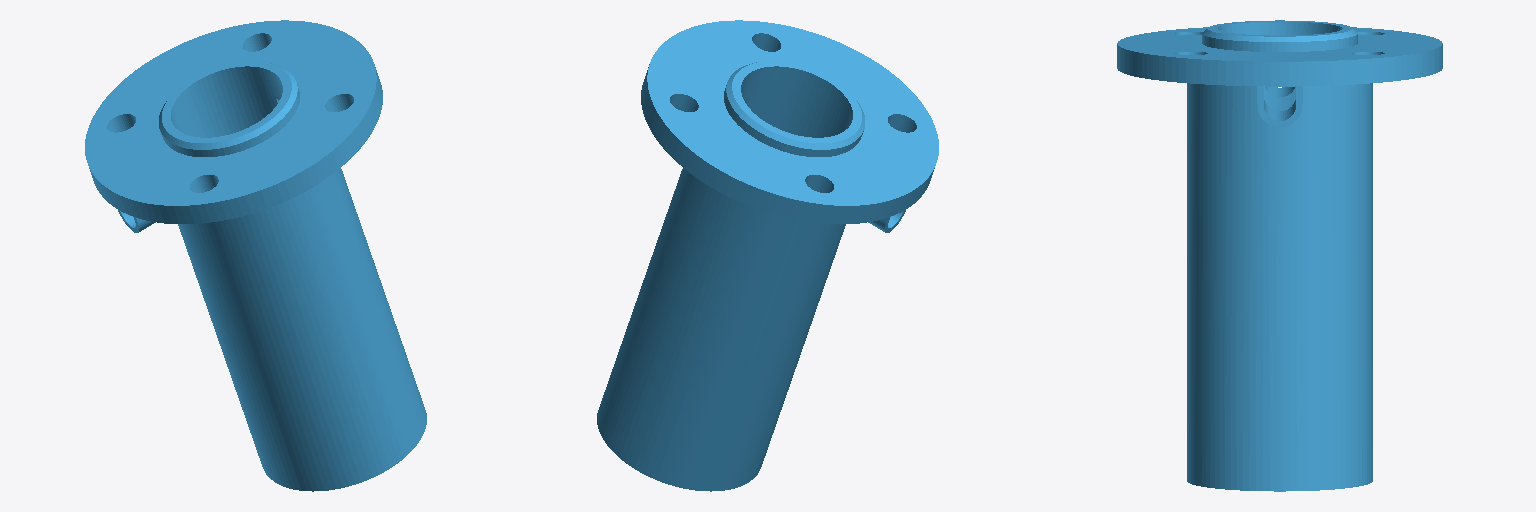
URDF robot description (panda):
<?xml version="1.0" ?>
<!-- =================================================================================== -->
<!-- |    This document was autogenerated by xacro from /opt/ros/kinetic/share/moveit_resources/panda_description/urdf/panda.urdf | -->
<!-- |    EDITING THIS FILE BY HAND IS NOT RECOMMENDED                                 | -->
<!-- =================================================================================== -->
<robot name="panda" xmlns:xacro="http://www.ros.org/wiki/xacro">
    <link name="panda_link0">
        <visual>
            <geometry>
                <mesh filename="package://franka_description/meshes/visual/link0.dae" />
            </geometry>
        </visual>
        <collision>
            <geometry>
                <mesh filename="package://franka_description/meshes/collision/link0.stl" />
            </geometry>
        </collision>
    </link>
    <link name="panda_link1">
        <visual>
            <geometry>
                <mesh filename="package://franka_description/meshes/visual/link1.dae" />
            </geometry>
        </visual>
        <collision>
            <geometry>
                <mesh filename="package://franka_description/meshes/collision/link1.stl" />
            </geometry>
        </collision>
    </link>
    <joint name="panda_joint1" type="revolute">
        <safety_controller k_position="100.0" k_velocity="40.0" soft_lower_limit="-2.8073" soft_upper_limit="2.8073" />
        <origin rpy="0 0 0" xyz="0 0 0.333" />
        <parent link="panda_link0" />
        <child link="panda_link1" />
        <axis xyz="0 0 1" />
        <limit effort="87" lower="-2.8073" upper="2.8073" velocity="2.3925" />
    </joint>
    <link name="panda_link2">
        <visual>
            <geometry>
                <mesh filename="package://franka_description/meshes/visual/link2.dae" />
            </geometry>
        </visual>
        <collision>
            <geometry>
                <mesh filename="package://franka_description/meshes/collision/link2.stl" />
            </geometry>
        </collision>
    </link>
    <joint name="panda_joint2" type="revolute">
        <safety_controller k_position="100.0" k_velocity="40.0" soft_lower_limit="-1.7028" soft_upper_limit="1.7028" />
        <origin rpy="-1.57079632679 0 0" xyz="0 0 0" />
        <parent link="panda_link1" />
        <child link="panda_link2" />
        <axis xyz="0 0 1" />
        <limit effort="87" lower="-1.7028" upper="1.7028" velocity="2.3925" />
    </joint>
    <link name="panda_link3">
        <visual>
            <geometry>
                <mesh filename="package://franka_description/meshes/visual/link3.dae" />
            </geometry>
        </visual>
        <collision>
            <geometry>
                <mesh filename="package://franka_description/meshes/collision/link3.stl" />
            </geometry>
        </collision>
    </link>
    <joint name="panda_joint3" type="revolute">
        <safety_controller k_position="100.0" k_velocity="40.0" soft_lower_limit="-2.8073" soft_upper_limit="2.8073" />
        <origin rpy="1.57079632679 0 0" xyz="0 -0.316 0" />
        <parent link="panda_link2" />
        <child link="panda_link3" />
        <axis xyz="0 0 1" />
        <limit effort="87" lower="-2.8073" upper="2.8073" velocity="2.3925" />
    </joint>
    <link name="panda_link4">
        <visual>
            <geometry>
                <mesh filename="package://franka_description/meshes/visual/link4.dae" />
            </geometry>
        </visual>
        <collision>
            <geometry>
                <mesh filename="package://franka_description/meshes/collision/link4.stl" />
            </geometry>
        </collision>
    </link>
    <joint name="panda_joint4" type="revolute">
        <safety_controller k_position="100.0" k_velocity="40.0" soft_lower_limit="-3.0018" soft_upper_limit="-0.1298" />
        <origin rpy="1.57079632679 0 0" xyz="0.0825 0 0" />
        <parent link="panda_link3" />
        <child link="panda_link4" />
        <axis xyz="0 0 1" />
        <limit effort="87" lower="-3.0018" upper="-0.1298" velocity="2.3925" />
    </joint>
    <link name="panda_link5">
        <visual>
            <geometry>
                <mesh filename="package://franka_description/meshes/visual/link5.dae" />
            </geometry>
        </visual>
        <collision>
            <geometry>
                <mesh filename="package://franka_description/meshes/collision/link5.stl" />
            </geometry>
        </collision>
    </link>
    <joint name="panda_joint5" type="revolute">
        <safety_controller k_position="100.0" k_velocity="40.0" soft_lower_limit="-2.8073" soft_upper_limit="2.8073" />
        <origin rpy="-1.57079632679 0 0" xyz="-0.0825 0.384 0" />
        <parent link="panda_link4" />
        <child link="panda_link5" />
        <axis xyz="0 0 1" />
        <limit effort="12" lower="-2.8073" upper="2.8073" velocity="2.8710" />
    </joint>
    <link name="panda_link6">
        <visual>
            <geometry>
                <mesh filename="package://franka_description/meshes/visual/link6.dae" />
            </geometry>
        </visual>
        <collision>
            <geometry>
                <mesh filename="package://franka_description/meshes/collision/link6.stl" />
            </geometry>
        </collision>
    </link>
    <joint name="panda_joint6" type="revolute">
        <safety_controller k_position="100.0" k_velocity="40.0" soft_lower_limit="0.0775" soft_upper_limit="3.7025" />
        <origin rpy="1.57079632679 0 0" xyz="0 0 0" />
        <parent link="panda_link5" />
        <child link="panda_link6" />
        <axis xyz="0 0 1" />
        <limit effort="12" lower="0.0775" upper="3.7025" velocity="2.8710" />
    </joint>
    <link name="panda_link7">
        <visual>
            <geometry>
                <mesh filename="package://franka_description/meshes/visual/link7.dae" />
            </geometry>
        </visual>
        <collision>
            <geometry>
                <mesh filename="package://franka_description/meshes/collision/link7.stl" />
            </geometry>
        </collision>
    </link>
    <joint name="panda_joint7" type="revolute">
        <safety_controller k_position="100.0" k_velocity="40.0" soft_lower_limit="-2.8073" soft_upper_limit="2.8073" />
        <origin rpy="1.57079632679 0 0" xyz="0.088 0 0" />
        <parent link="panda_link6" />
        <child link="panda_link7" />
        <axis xyz="0 0 1" />
        <limit effort="12" lower="-2.8073" upper="2.8073" velocity="2.8710" />
    </joint>
    <link name="panda_link8" />
    <joint name="panda_joint8" type="fixed">
        <origin rpy="0 0 0" xyz="0 0 0.107" />
        <parent link="panda_link7" />
        <child link="panda_link8" />
        <axis xyz="0 0 0" />
    </joint>
    <joint name="panda_vacuum_joint" type="fixed">
        <parent link="panda_link8" />
        <child link="panda_vacuum" />
        <origin rpy="0 0 0.785398163397" xyz="0 0 0" />
    </joint>
    <link name="panda_vacuum">
        <visual>
            <geometry>
                <mesh filename="package://franka_description/meshes/visual/vacuum_v2.dae" />
            </geometry>
        </visual>
        <collision>
            <geometry>
                <mesh filename="package://franka_description/meshes/collision/vacuum_v2.stl" />
            </geometry>
        </collision>
    </link>
    <!-- vacuum_surface frame -->
    <link name="panda_vacuum_surface"/>
    <joint name="panda_vacuum_surface_joint" type="fixed">
        <origin rpy="0 0 0" xyz="0 0 0.091"/>
        <parent link="panda_vacuum"/>
        <child link="panda_vacuum_surface"/>
        <axis xyz="0 0 1"/>
    </joint>
      <!-- grasping frame -->
    <link name="tcp"/>
    <joint name="tcp_joint" type="fixed">
        <origin rpy="0 0 -1.57079632679" xyz="0 0 0.10"/>
        <parent link="panda_vacuum_surface"/>
        <child link="tcp"/>
        <axis xyz="0 0 1"/>
    </joint>

</robot>

--- Facts derived from the render (not from the file) ---
Views: 3 orthographic renders of the robot side by side, from view 1: azimuth 30°, elevation 25°; view 2: azimuth 150°, elevation 25°; view 3: azimuth 270°, elevation 25°.
Model panda with 12 links and 11 joints (7 revolute, 4 fixed), rooted at panda_link0, posed joints at zero except 2 at the middle of their limits (panda_joint4 = -1.57, panda_joint6 = 1.89).
Links seen in each view (by area): view 1: panda_vacuum; view 2: panda_vacuum; view 3: panda_vacuum.
Boxes of the visible links, x1,y1,x2,y2 form: panda_vacuum: (85, 20, 426, 491); panda_vacuum: (597, 20, 938, 491); panda_vacuum: (1117, 20, 1442, 491).
Bounding box of the posed robot: 0.0764 × 0.065 × 0.0997 m (x, y, z).
1 mesh visuals loaded from 9 distinct referenced files (1 Collada DAE); not drawn: 8 (reference not matched to a file when rendering).